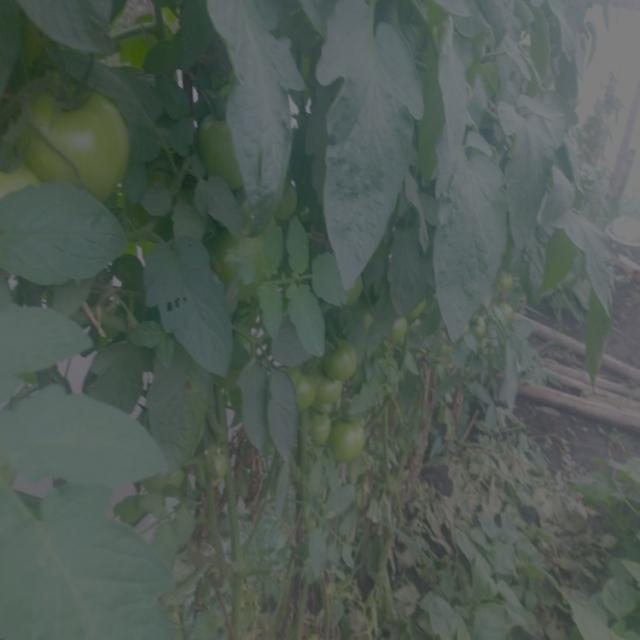tomato: (26, 73, 130, 200), (197, 100, 251, 196), (216, 213, 279, 281), (333, 419, 375, 468), (1, 150, 36, 204), (321, 334, 360, 382), (287, 364, 320, 409), (378, 312, 412, 350), (317, 378, 351, 412), (495, 268, 523, 301), (208, 445, 232, 480), (469, 318, 491, 343)
